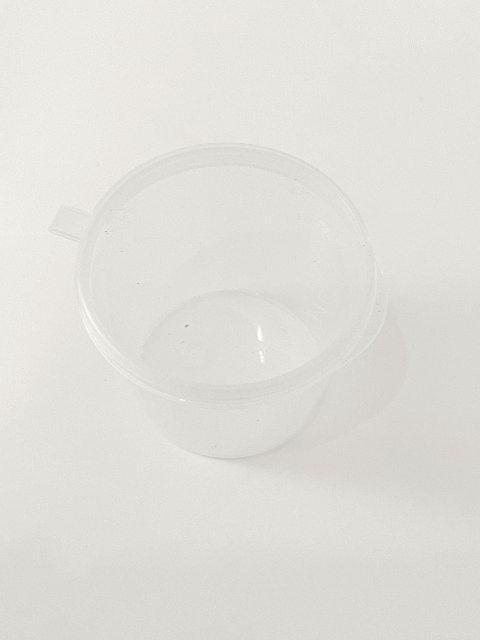plasticcontainer: (45, 138, 391, 462)
